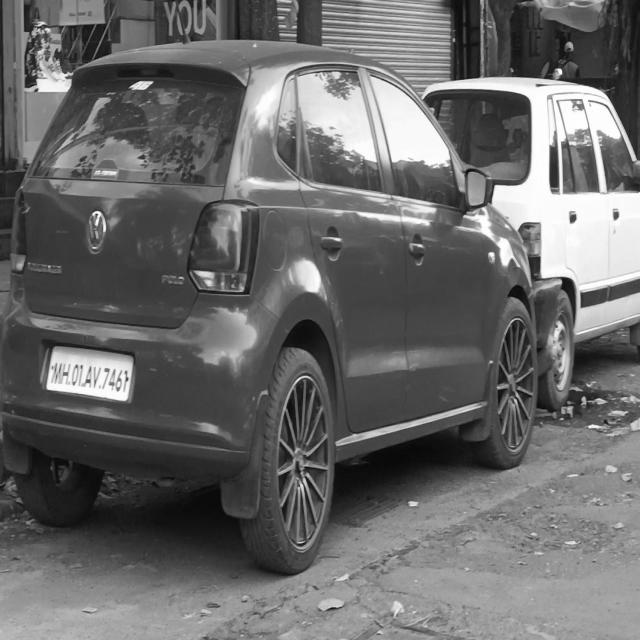car: (0, 35, 538, 575), (420, 76, 640, 416)
license-plate: (44, 342, 134, 404)
